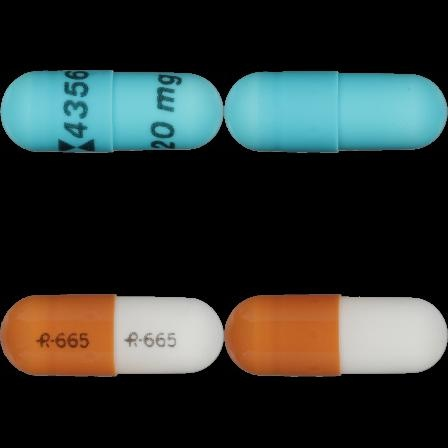16590-100: (0, 0, 224, 224)
